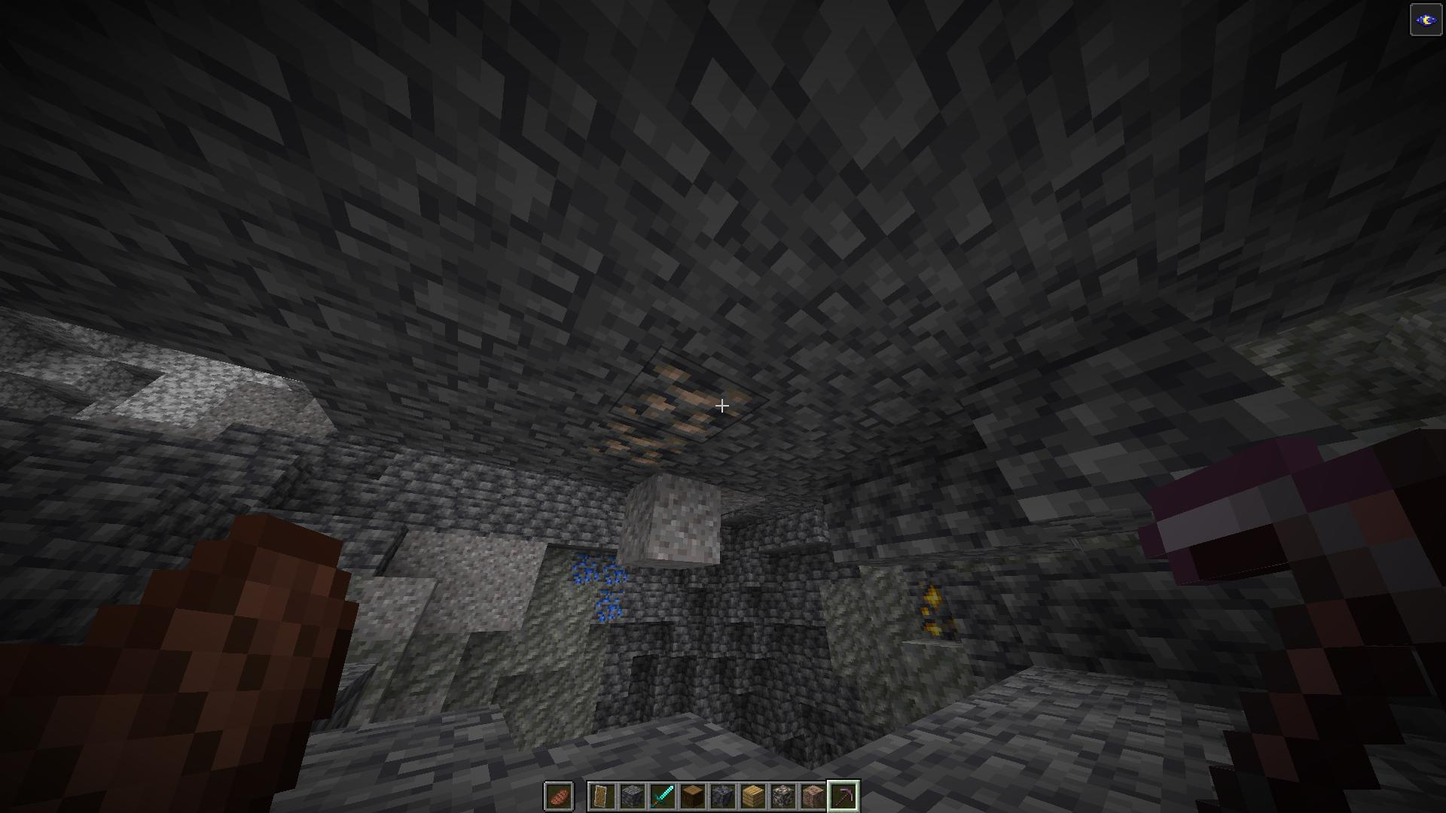gold ore: (916, 573, 962, 636)
iron ore: (626, 360, 738, 434), (589, 418, 680, 466)
